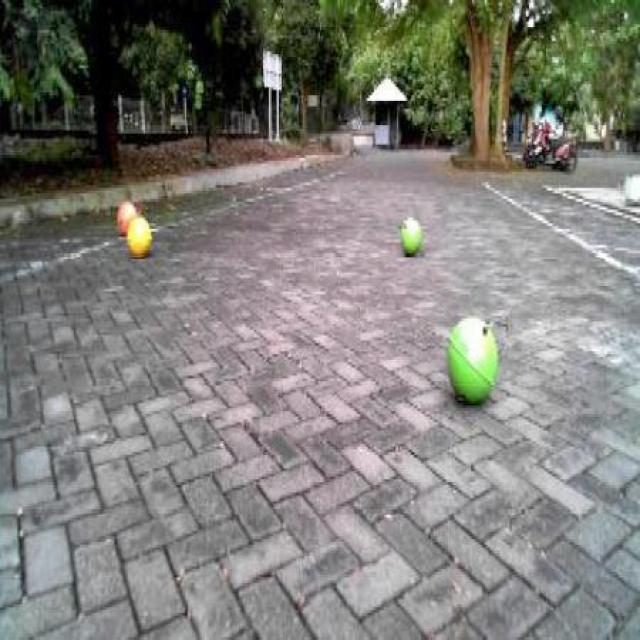buoy: (443, 307, 501, 414), (396, 208, 426, 258), (124, 209, 153, 256), (113, 190, 136, 232)
